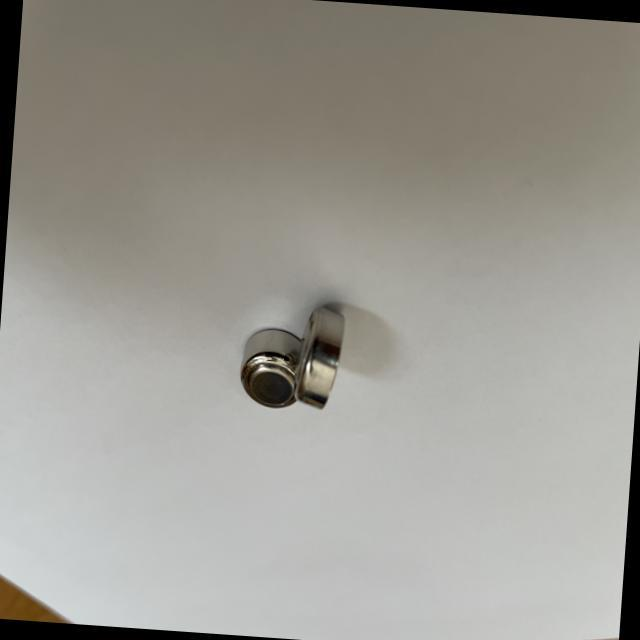COIN: (291, 302, 345, 411), (237, 326, 306, 407)
